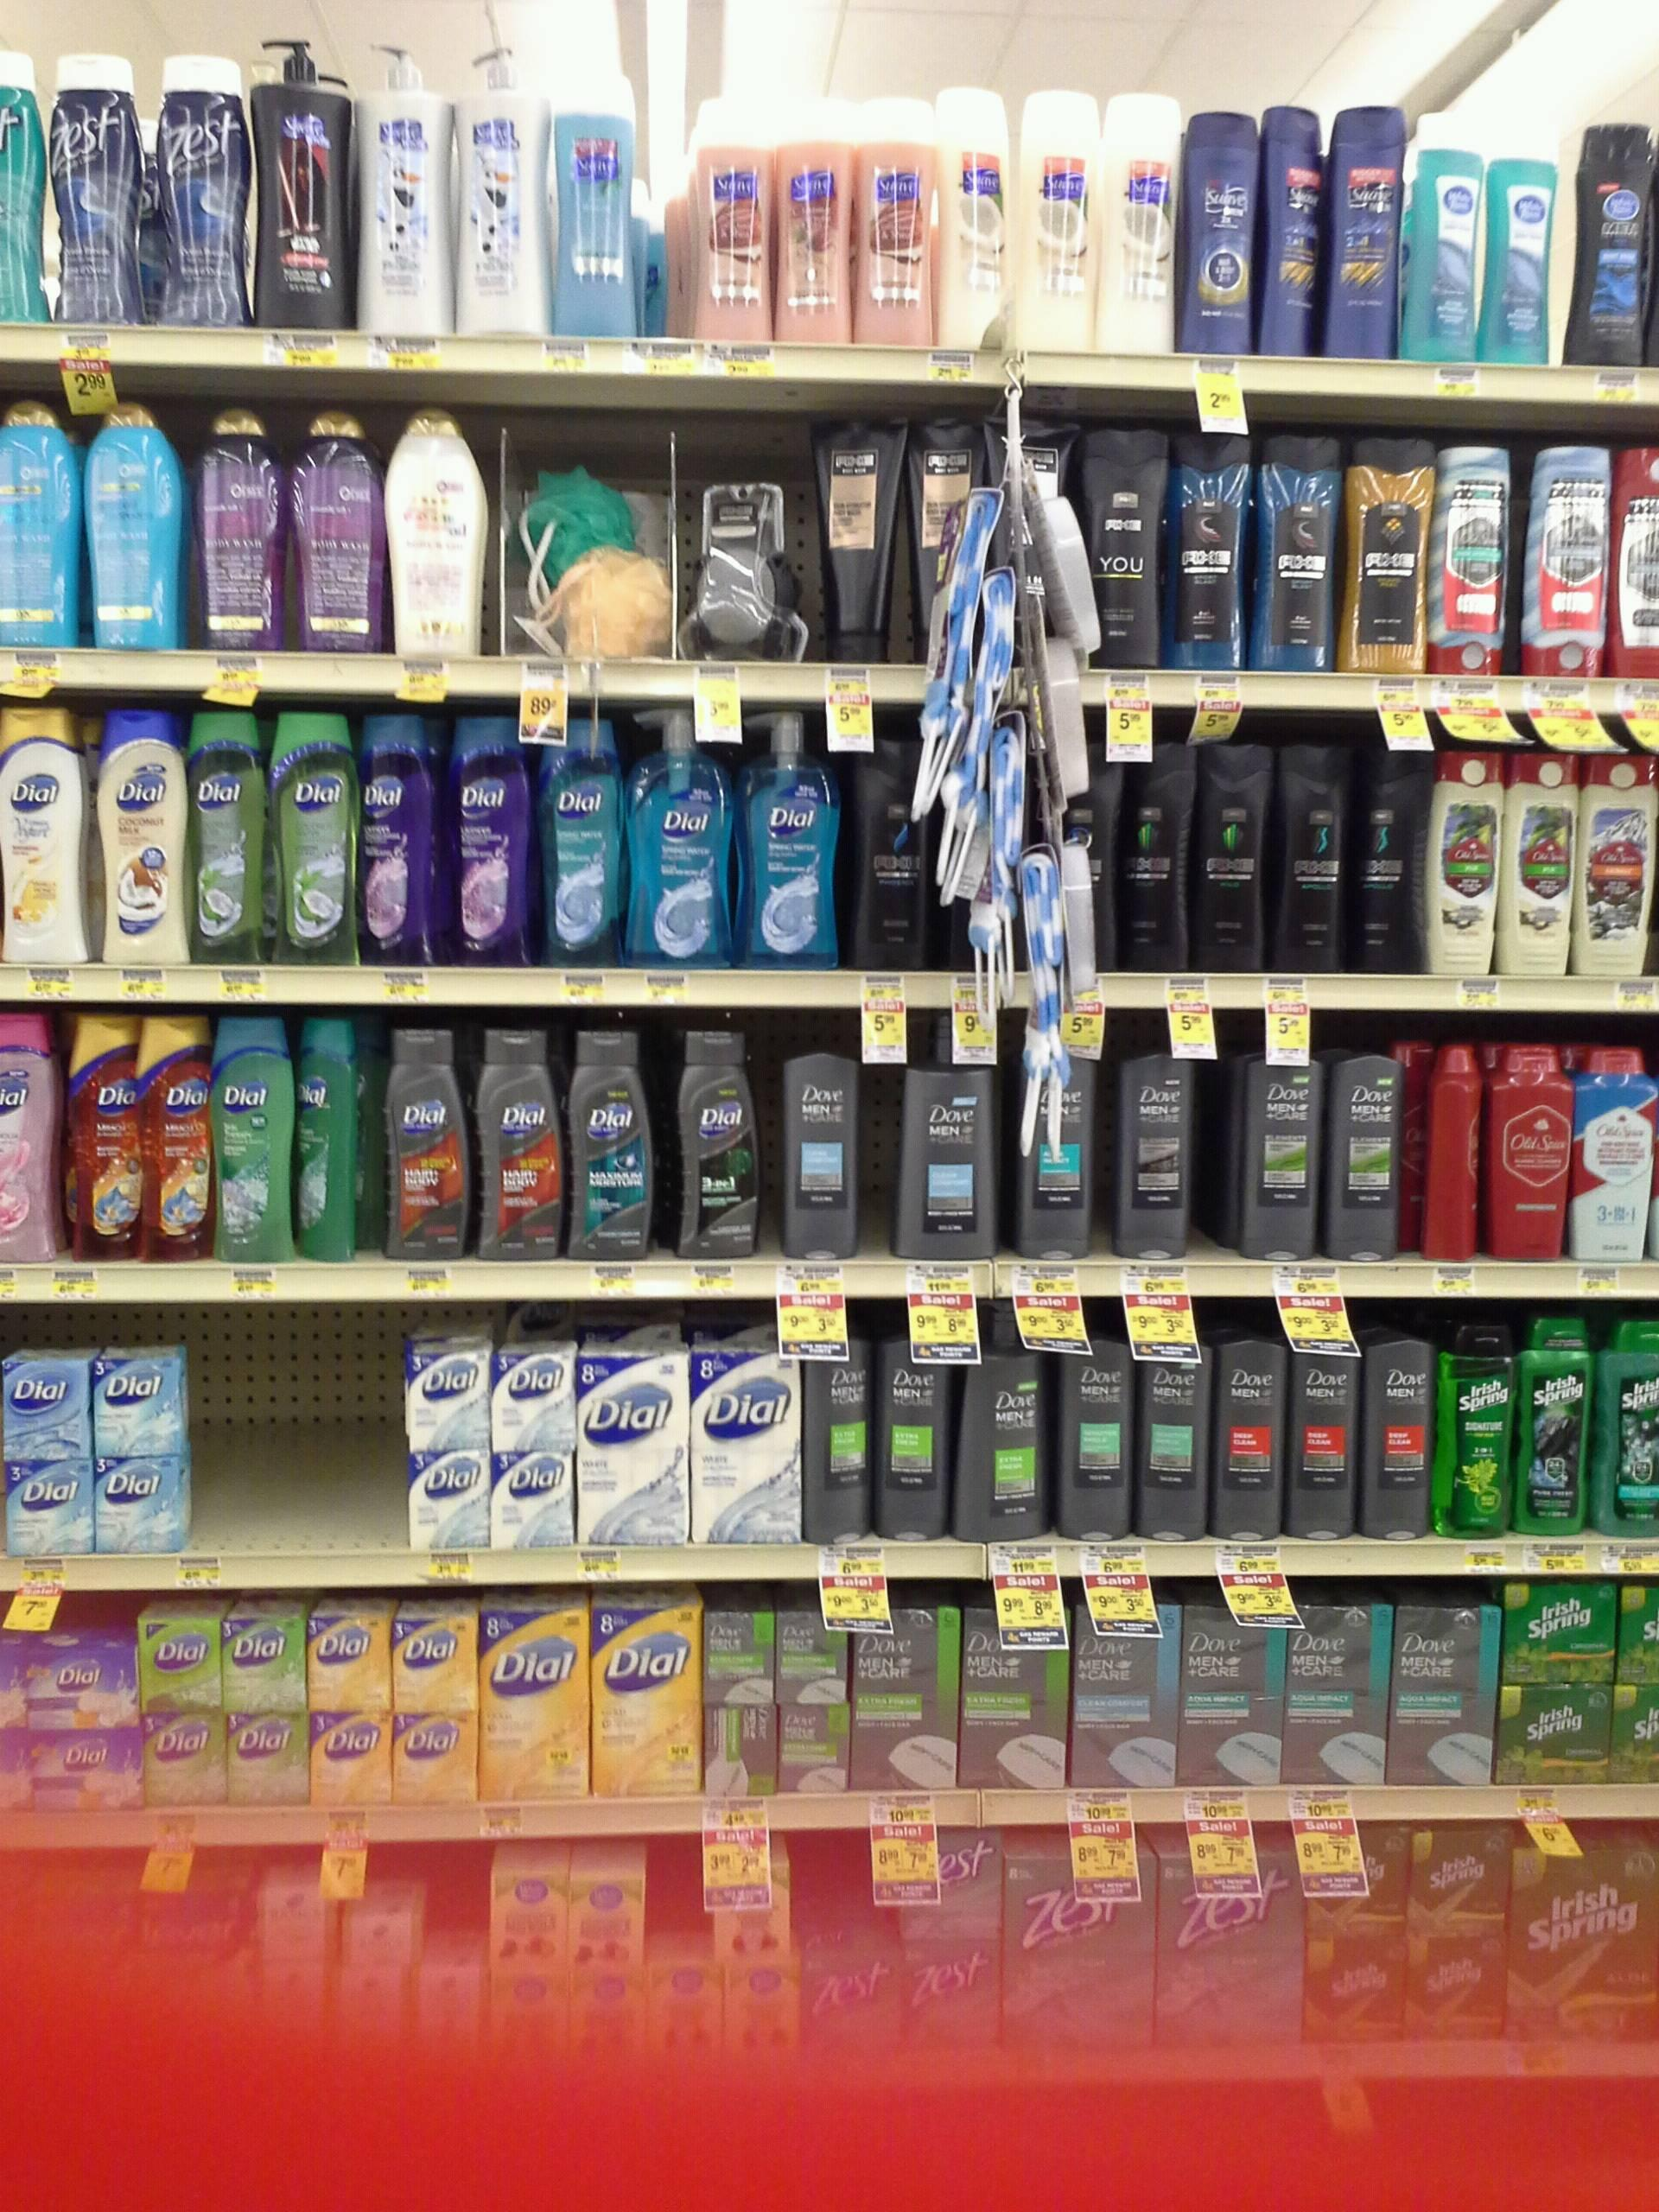empty: (195, 1341, 408, 1550)
